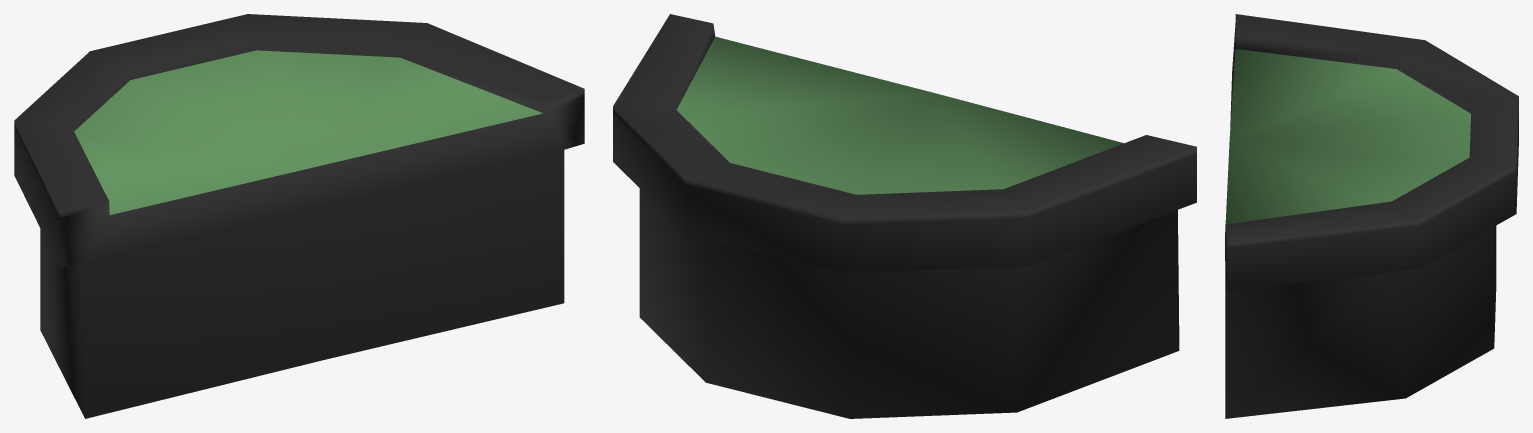
The model's file is CasinoTable.fbx.
3 renders of one model, left to right at view 1: azimuth 30°, elevation 25°; view 2: azimuth 150°, elevation 25°; view 3: azimuth 270°, elevation 25°, orthographic. The views are drawn at different scales.
Parts seen in each view (by area): view 1: pCylinder1; view 2: pCylinder1; view 3: pCylinder1.
Boxes of the visible parts, box(x1,y1,x2,y2) form: pCylinder1: box(14, 14, 584, 418); pCylinder1: box(613, 14, 1196, 418); pCylinder1: box(1225, 14, 1518, 418).
Bounding box in the file's own units: 9.87 × 3.78 × 5.37.
